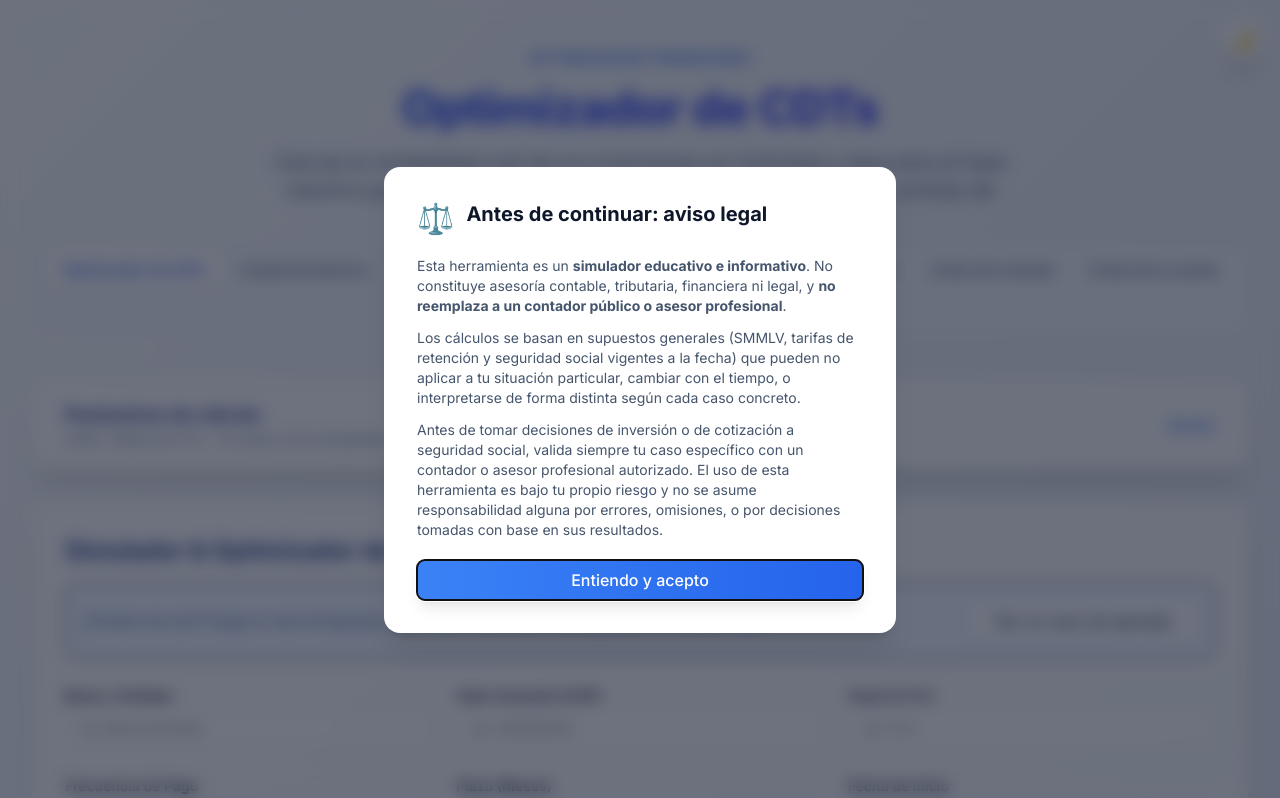
Test: App › cambiar a la pestaña "Escalera Fogafín" muestra esa herramienta
The image size is (1280, 798).
Click the button "Entiendo y acepto" at (640, 580), box [417, 560, 863, 600]
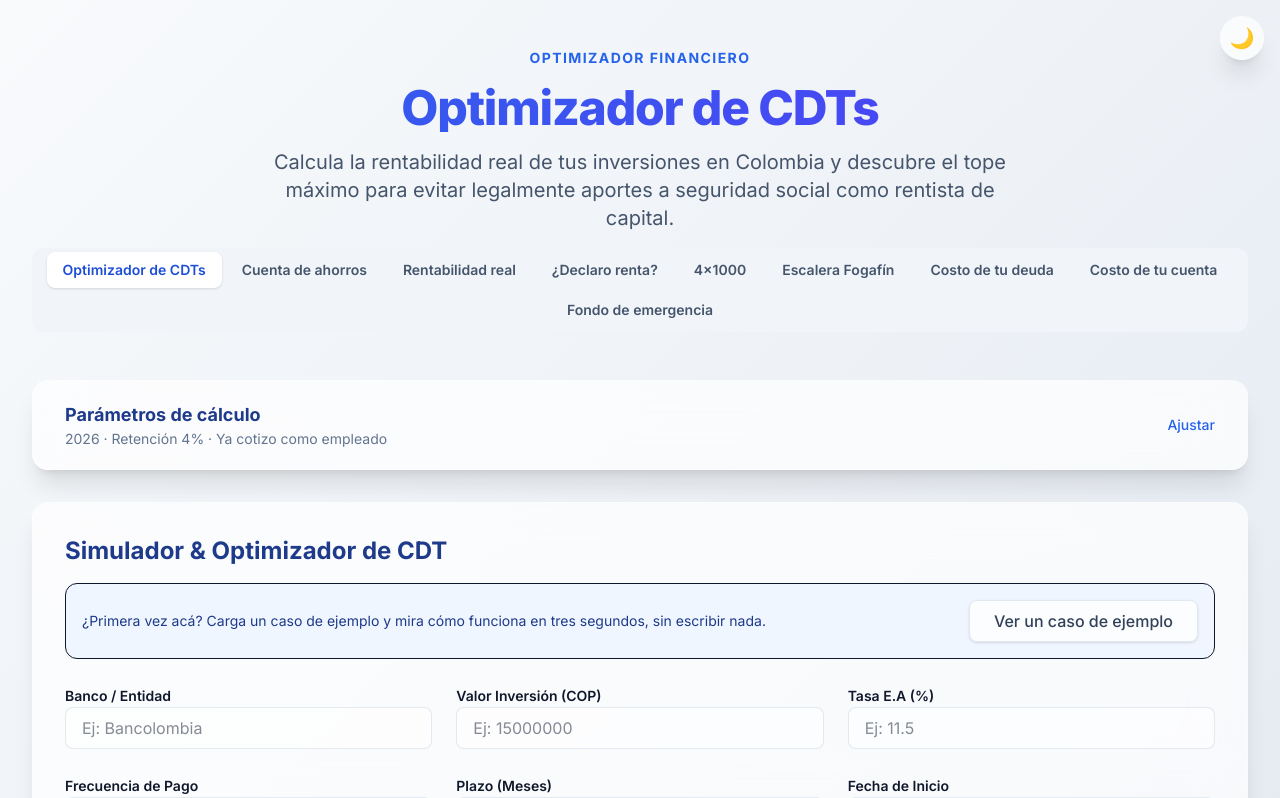
Click the link "Escalera Fogafín" at (838, 270), box [782, 261, 894, 278]
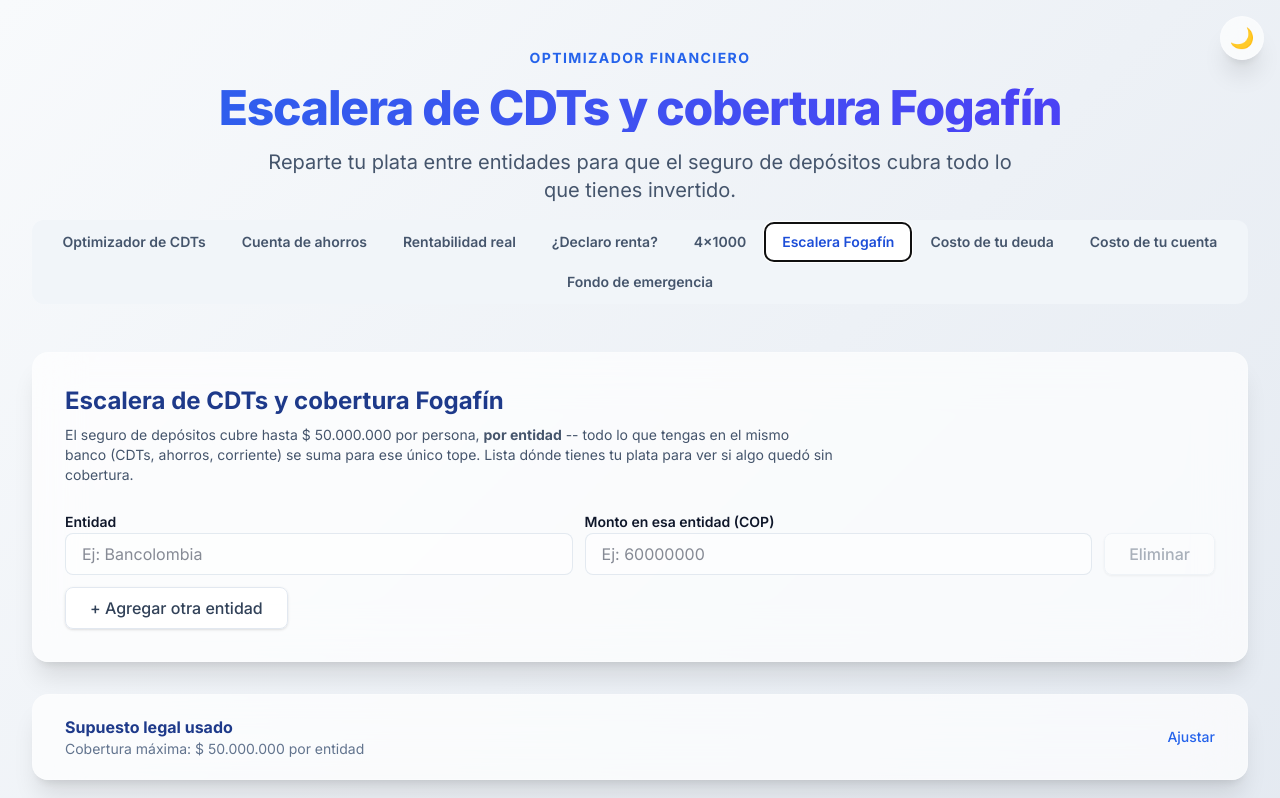
Now the heading "Escalera de CDTs y cobertura Fogafín" below "Optimizador Financiero" is shown, box [32, 84, 1248, 132]
